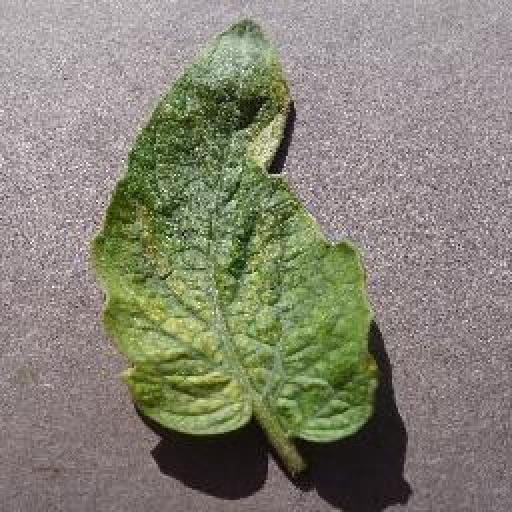Spider Mites: (87, 16, 381, 447)
